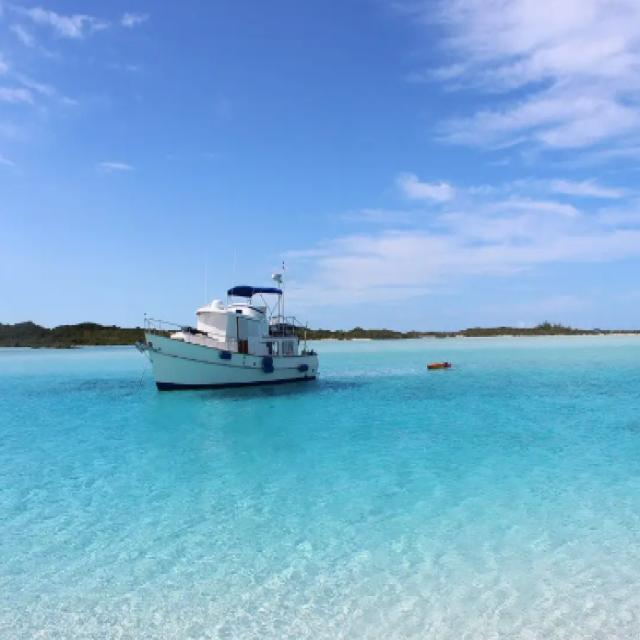houseboat: (141, 260, 316, 386)
